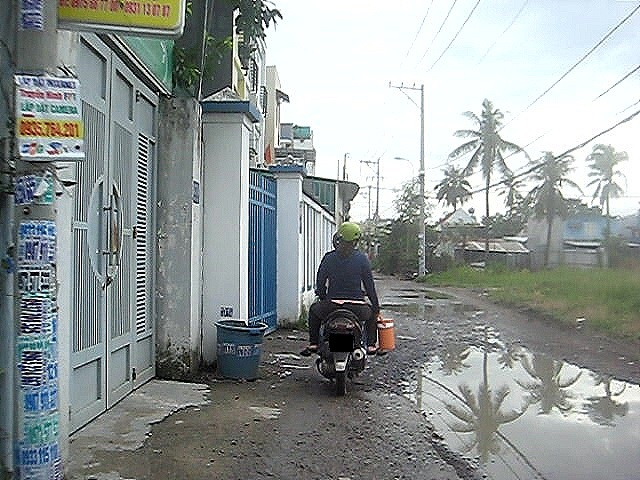hole: (399, 334, 640, 480), (378, 303, 495, 321), (384, 286, 463, 303)
